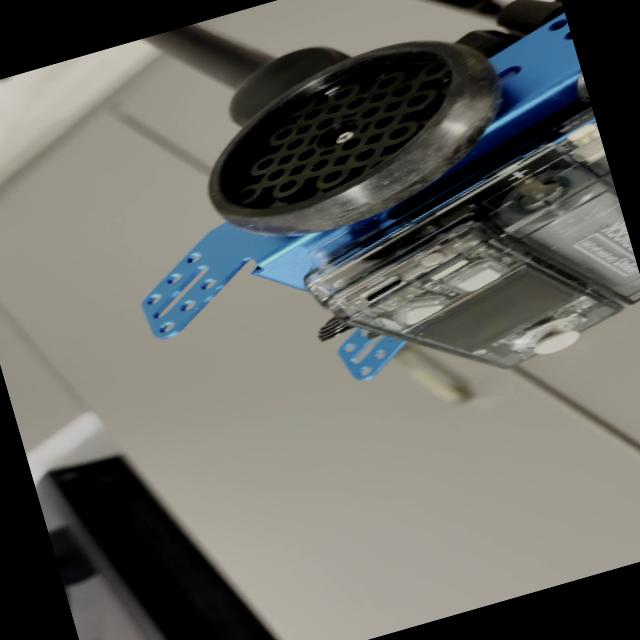mbot-detection: (81, 0, 640, 482)
